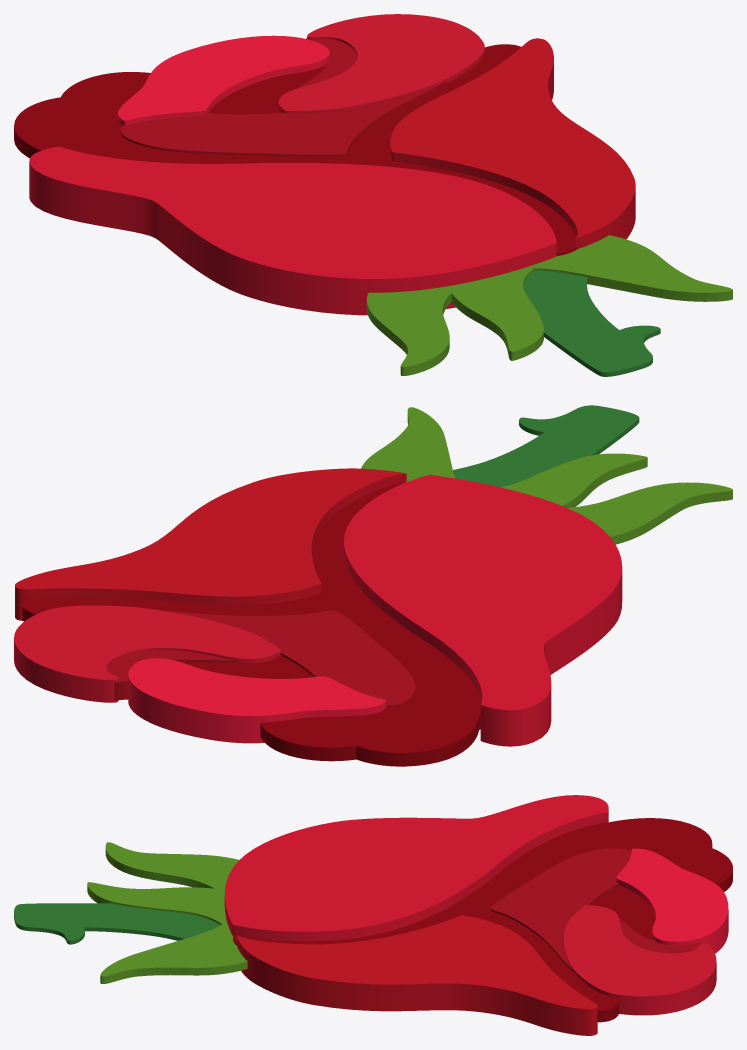
Rendered from emoji_u1f339.glb.
3 views of the same model, one above another, from view 1: azimuth 30°, elevation 25°; view 2: azimuth 150°, elevation 25°; view 3: azimuth 270°, elevation 25° (orthographic). The views are drawn at different scales.
Visible parts, largest first — view 1: emoji_u1f339; view 2: emoji_u1f339; view 3: emoji_u1f339.
Boxes of the visible parts, box(x1,y1,x2,y2) form: emoji_u1f339: box(14, 14, 732, 376); emoji_u1f339: box(14, 405, 732, 766); emoji_u1f339: box(14, 795, 732, 1035).
Size of the model in its own units: 0.0239 by 0.0016 by 0.0342.
